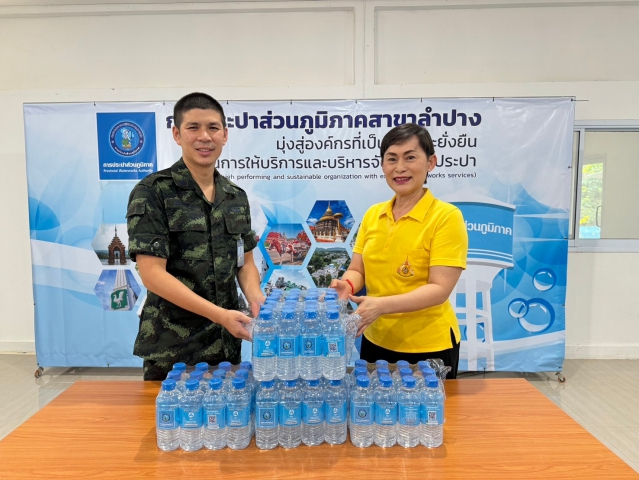text: (223, 105, 483, 133), (214, 152, 382, 171), (272, 129, 383, 156), (463, 217, 513, 238), (432, 131, 478, 149), (432, 153, 477, 168), (101, 159, 152, 171), (428, 171, 476, 178)
